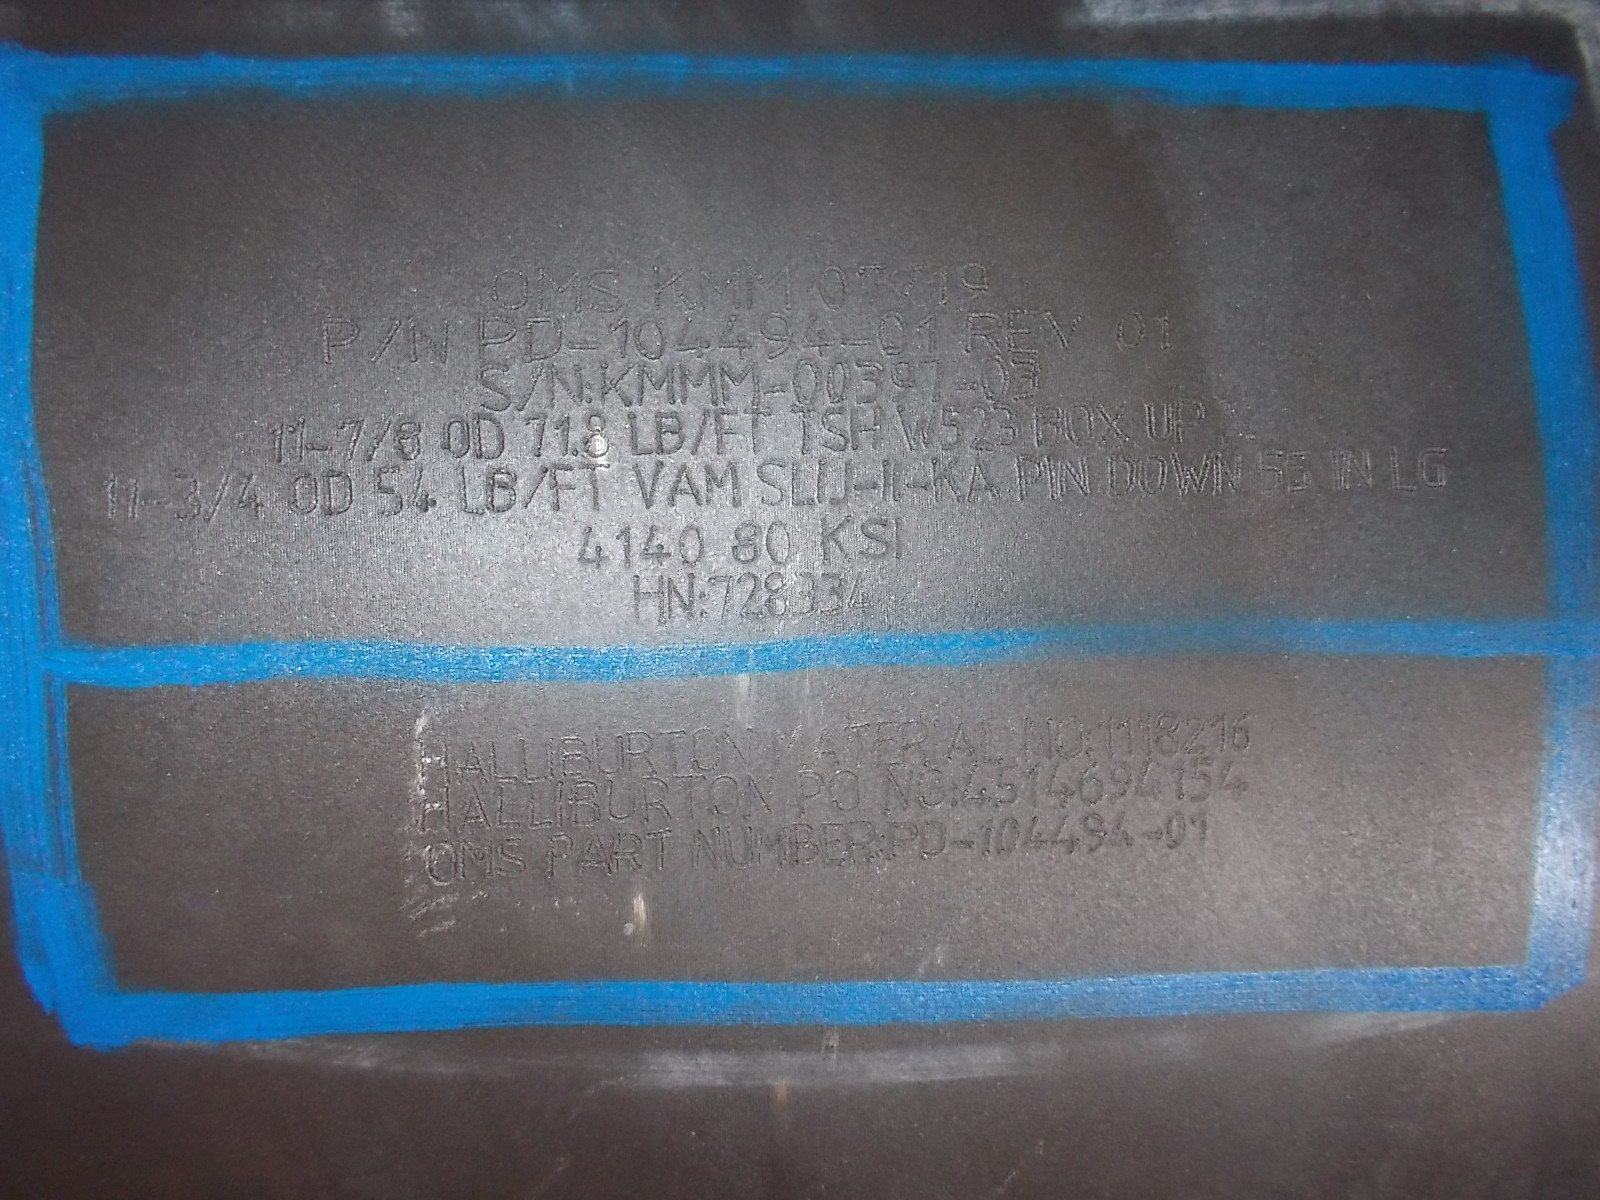character: (644, 258, 695, 315), (532, 263, 585, 314), (743, 262, 799, 310), (404, 314, 454, 367), (702, 458, 747, 513), (365, 464, 408, 522), (695, 258, 743, 310), (747, 453, 787, 513), (814, 511, 855, 567), (475, 314, 523, 363), (523, 311, 568, 363), (472, 362, 514, 417), (1043, 308, 1091, 355), (627, 574, 666, 630), (412, 785, 454, 838), (666, 314, 714, 359), (489, 263, 532, 314), (813, 262, 855, 313), (449, 463, 486, 519), (454, 782, 491, 838), (365, 314, 404, 368), (316, 316, 358, 367), (855, 512, 893, 567), (420, 837, 460, 889), (629, 458, 665, 514), (665, 458, 702, 514), (578, 461, 614, 519), (585, 263, 626, 313), (1168, 447, 1209, 497), (961, 309, 1005, 354), (416, 734, 454, 787), (897, 406, 940, 453), (634, 362, 677, 408), (600, 782, 643, 828), (740, 774, 781, 822), (714, 309, 753, 359), (574, 831, 612, 882), (719, 359, 761, 406), (756, 311, 792, 364), (236, 471, 272, 524), (848, 405, 888, 453), (719, 724, 760, 771), (1252, 442, 1286, 499), (454, 734, 488, 790), (792, 766, 826, 823), (1097, 397, 1133, 451), (954, 257, 991, 308), (1173, 397, 1211, 447), (576, 523, 614, 574), (913, 763, 946, 821), (677, 362, 719, 406), (1109, 308, 1150, 353), (544, 361, 585, 407), (1340, 446, 1380, 494), (471, 410, 506, 463), (910, 308, 947, 357), (321, 466, 355, 521), (978, 712, 1012, 766), (879, 766, 913, 821), (765, 724, 808, 766), (796, 313, 838, 357), (286, 469, 321, 521), (637, 521, 673, 572), (643, 776, 678, 828), (930, 458, 968, 505), (753, 822, 791, 870), (1005, 305, 1042, 354), (408, 463, 438, 522), (488, 734, 520, 788), (1056, 454, 1094, 500), (1029, 401, 1063, 453), (785, 405, 819, 456), (590, 732, 626, 780), (436, 413, 471, 463), (787, 568, 820, 621), (704, 773, 740, 822), (457, 839, 496, 884), (1063, 401, 1097, 451), (514, 361, 544, 417), (580, 408, 614, 459), (486, 463, 517, 519), (852, 357, 886, 407), (968, 455, 1002, 505), (1386, 442, 1420, 493), (610, 831, 648, 876), (540, 832, 574, 882), (1044, 760, 1076, 814), (1135, 755, 1168, 807), (959, 764, 994, 812), (549, 461, 578, 519), (733, 568, 762, 626), (1187, 753, 1216, 811), (1286, 444, 1317, 499), (843, 717, 873, 773), (742, 406, 776, 455), (556, 732, 590, 782), (687, 724, 719, 774), (598, 361, 634, 407), (665, 571, 695, 625), (728, 519, 762, 567), (1141, 396, 1173, 447), (626, 729, 658, 780), (826, 771, 858, 823), (520, 782, 553, 831), (787, 453, 815, 511), (1013, 453, 1042, 508), (677, 773, 706, 828), (1209, 451, 1245, 497), (1417, 442, 1453, 488), (569, 782, 600, 834), (980, 354, 1012, 405), (655, 408, 687, 459), (711, 406, 742, 456), (722, 822, 753, 872), (632, 314, 666, 361), (1104, 453, 1138, 499), (622, 411, 655, 459), (673, 521, 706, 568), (393, 413, 423, 465), (762, 516, 792, 567), (886, 358, 917, 407), (1138, 451, 1169, 500), (946, 717, 978, 766), (1012, 358, 1044, 405), (1022, 711, 1054, 758), (876, 313, 910, 357), (1220, 758, 1254, 802), (939, 401, 968, 453), (336, 415, 365, 466), (819, 405, 848, 456), (519, 465, 549, 514), (1077, 760, 1107, 809), (367, 411, 393, 466), (873, 717, 900, 773), (1150, 305, 1180, 353), (792, 357, 823, 405), (1054, 710, 1085, 758), (900, 717, 927, 769), (708, 570, 733, 626), (491, 782, 520, 831), (693, 823, 722, 872), (917, 358, 947, 405), (811, 724, 844, 766), (1107, 756, 1134, 809), (848, 568, 876, 619), (820, 568, 848, 619), (1049, 814, 1081, 858), (823, 357, 852, 405), (995, 813, 1024, 861), (819, 821, 848, 868), (1107, 809, 1138, 855), (496, 839, 530, 880), (520, 734, 546, 788), (791, 821, 819, 870), (1230, 708, 1259, 755), (1164, 807, 1193, 853), (762, 568, 787, 621), (848, 821, 876, 868), (519, 412, 548, 458), (658, 729, 687, 774), (1081, 809, 1107, 858), (648, 827, 674, 876), (687, 406, 711, 460), (971, 400, 994, 456), (891, 819, 920, 863), (1157, 707, 1182, 758), (1184, 710, 1211, 758), (920, 818, 947, 863), (830, 458, 855, 505), (286, 408, 307, 464), (1024, 814, 1049, 861), (614, 522, 636, 574), (609, 313, 632, 361), (994, 766, 1019, 812), (991, 405, 1015, 451), (548, 410, 571, 458), (1168, 753, 1187, 807), (1026, 761, 1044, 814), (930, 262, 952, 305), (265, 418, 286, 464), (978, 813, 995, 867), (893, 512, 912, 562), (1189, 807, 1212, 848), (1136, 707, 1155, 756), (1209, 711, 1230, 755), (1099, 713, 1117, 760), (553, 782, 569, 834), (929, 715, 944, 770), (1117, 713, 1136, 758), (815, 458, 830, 511), (564, 335, 603, 355), (1042, 454, 1056, 508), (304, 437, 338, 459), (1325, 447, 1340, 494), (838, 333, 876, 350), (945, 378, 980, 396), (949, 836, 978, 855), (1083, 721, 1097, 758), (546, 734, 556, 782), (762, 381, 791, 396), (853, 478, 879, 494), (905, 479, 931, 493), (947, 778, 957, 813), (1141, 827, 1164, 842), (878, 829, 889, 858), (698, 590, 707, 620), (585, 379, 593, 407), (569, 447, 580, 460)
